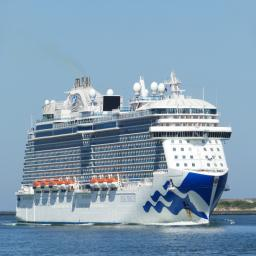cruises: (14, 72, 234, 233)
